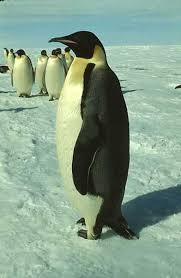emporer: (38, 26, 143, 249)
